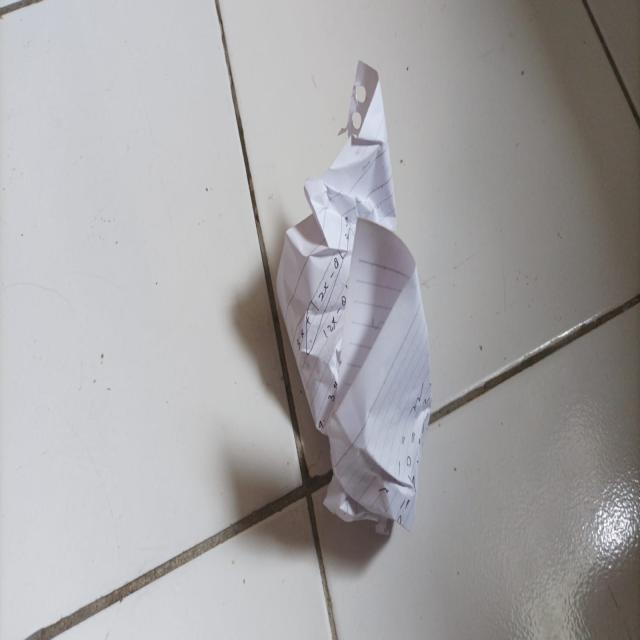Organik: (272, 52, 438, 550)
